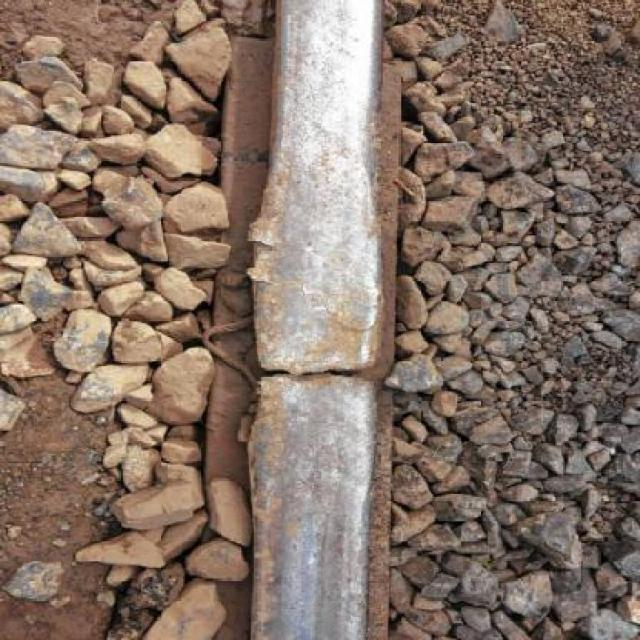defective: (147, 67, 449, 640)
